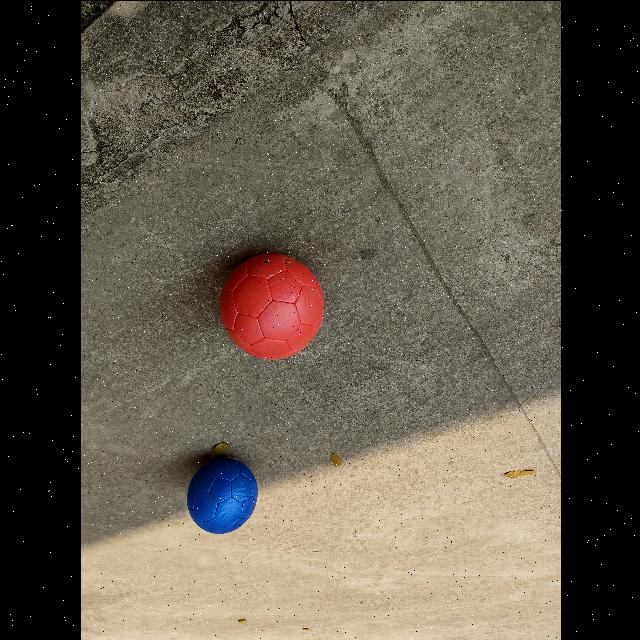B: (185, 452, 258, 532)
R: (218, 249, 324, 358)
